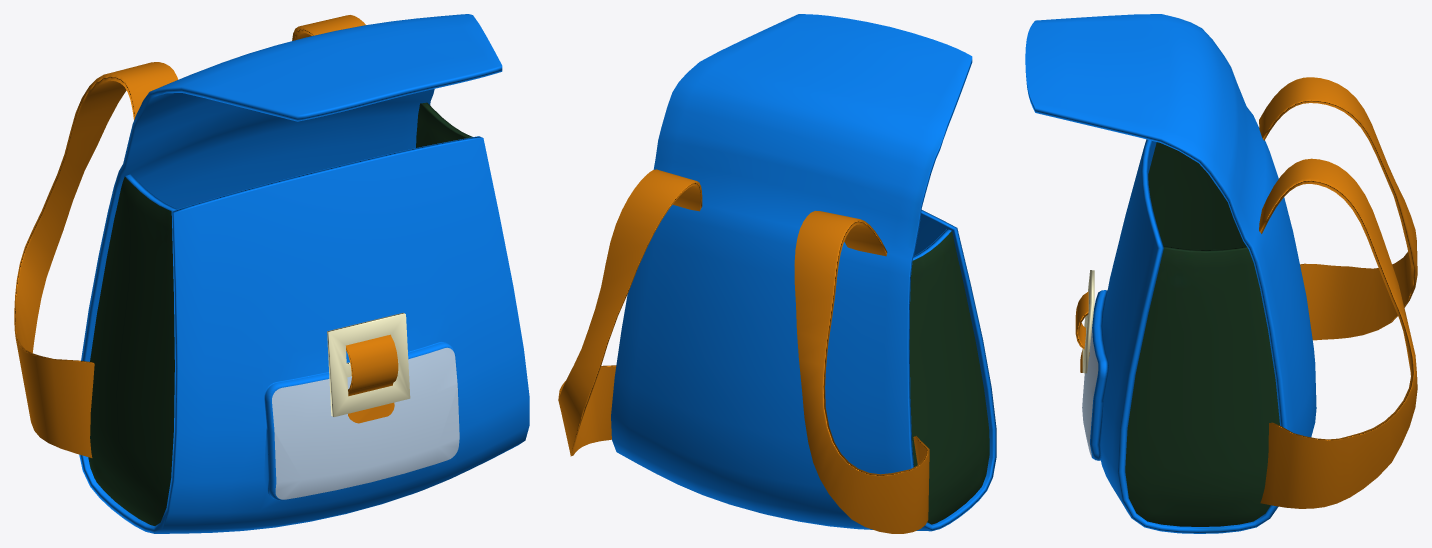
Rendered from BackPack.fbx.
3 renders of one model, left to right at view 1: azimuth 30°, elevation 25°; view 2: azimuth 150°, elevation 25°; view 3: azimuth 270°, elevation 25°, orthographic. The views are drawn at different scales.
Visible parts, largest first — view 1: shubao; view 2: shubao; view 3: shubao.
Part boxes in pixels (x1,y1,x2,y2): shubao: (14, 14, 529, 533); shubao: (558, 14, 996, 533); shubao: (1025, 14, 1417, 533).
Size of the model in its own units: 37.6 by 40.99 by 35.34.
